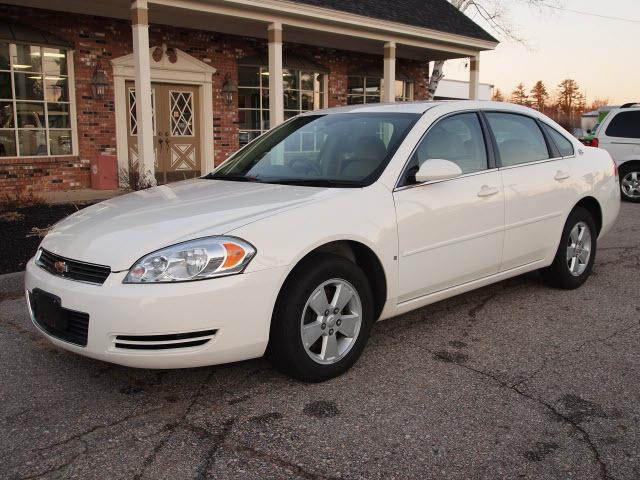Car: (14, 89, 622, 403), (565, 97, 640, 210)
